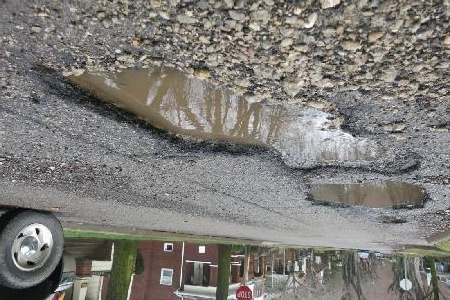pothole: (36, 54, 423, 175), (304, 180, 434, 214), (378, 214, 410, 227)
